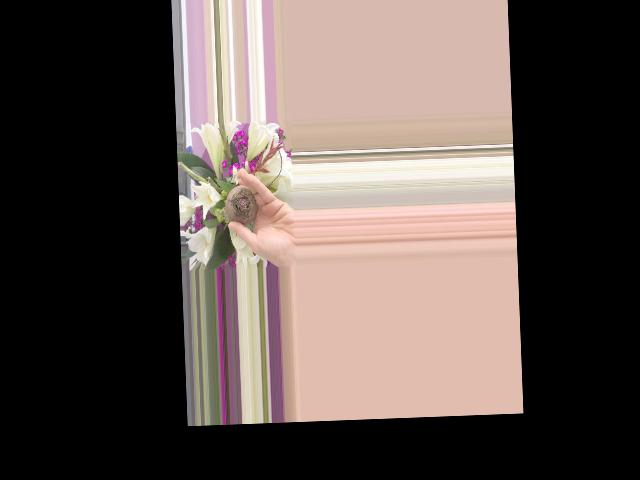beet: (224, 183, 258, 225)
